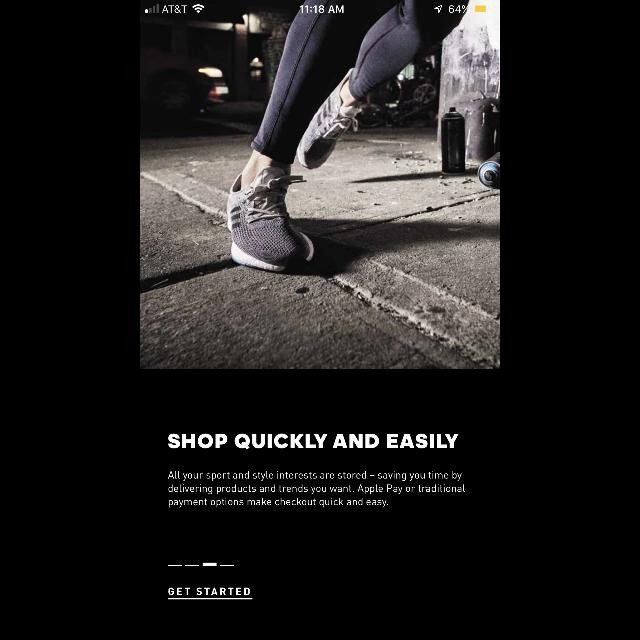image: (140, 0, 500, 368)
pageindicator: (168, 562, 234, 566)
text: (168, 470, 466, 508), (168, 433, 460, 449), (169, 587, 253, 599)
uppertaskbar: (140, 0, 500, 14)
